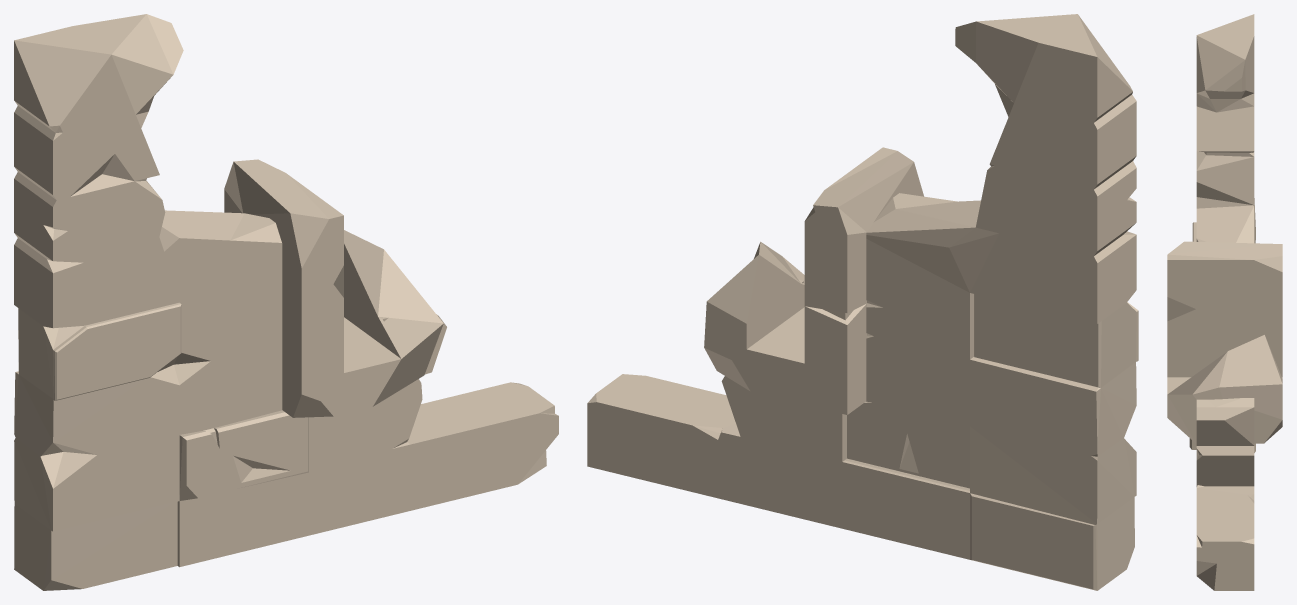
The model's file is Broken_Wall_Window_001.fbx.
3 views of the same model, side by side, from view 1: azimuth 30°, elevation 25°; view 2: azimuth 150°, elevation 25°; view 3: azimuth 270°, elevation 25° (orthographic). The views are drawn at different scales.
Parts seen in each view (by area): view 1: Broken_Wall_Window_001; view 2: Broken_Wall_Window_001; view 3: Broken_Wall_Window_001.
Boxes of the visible parts, <box> form: Broken_Wall_Window_001: <box>14,14,558,590</box>; Broken_Wall_Window_001: <box>587,14,1138,590</box>; Broken_Wall_Window_001: <box>1167,14,1282,590</box>.
Size of the model in its own units: 3 by 3 by 0.7964.
